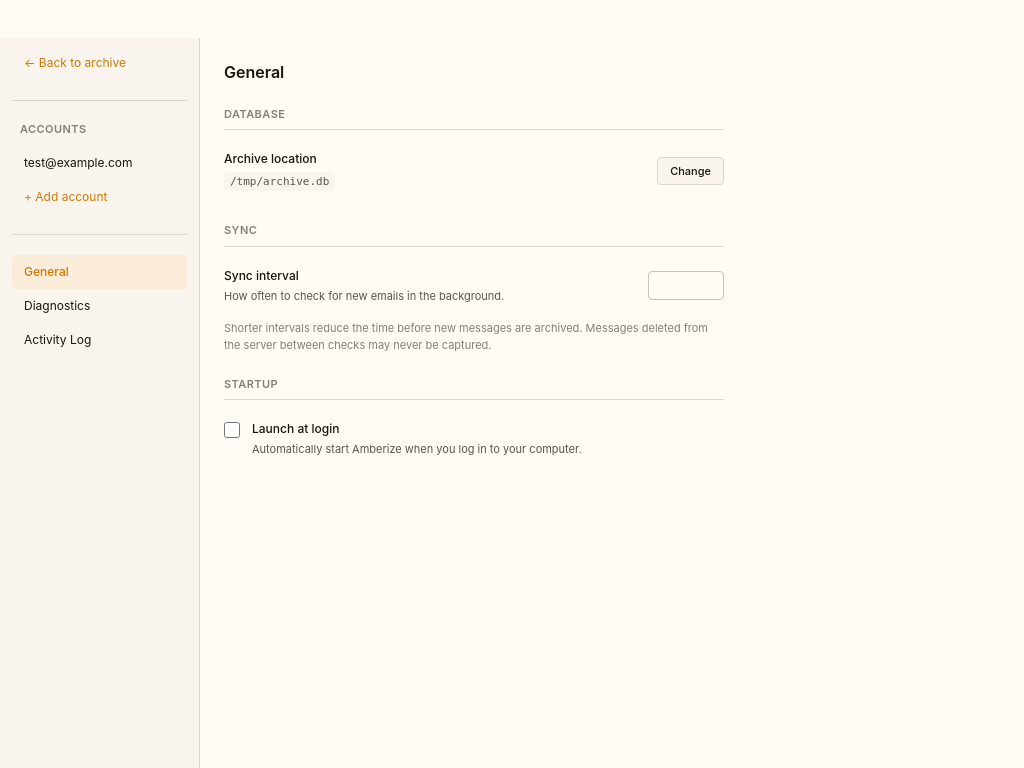
Scenario: archive reliability › Add account opens the form from General Settings
Check: the dropdown named "Background sync interval" is shown, box [648,271,724,300]
Click the button "+ Add account" at (100, 196), box [12,180,187,214]
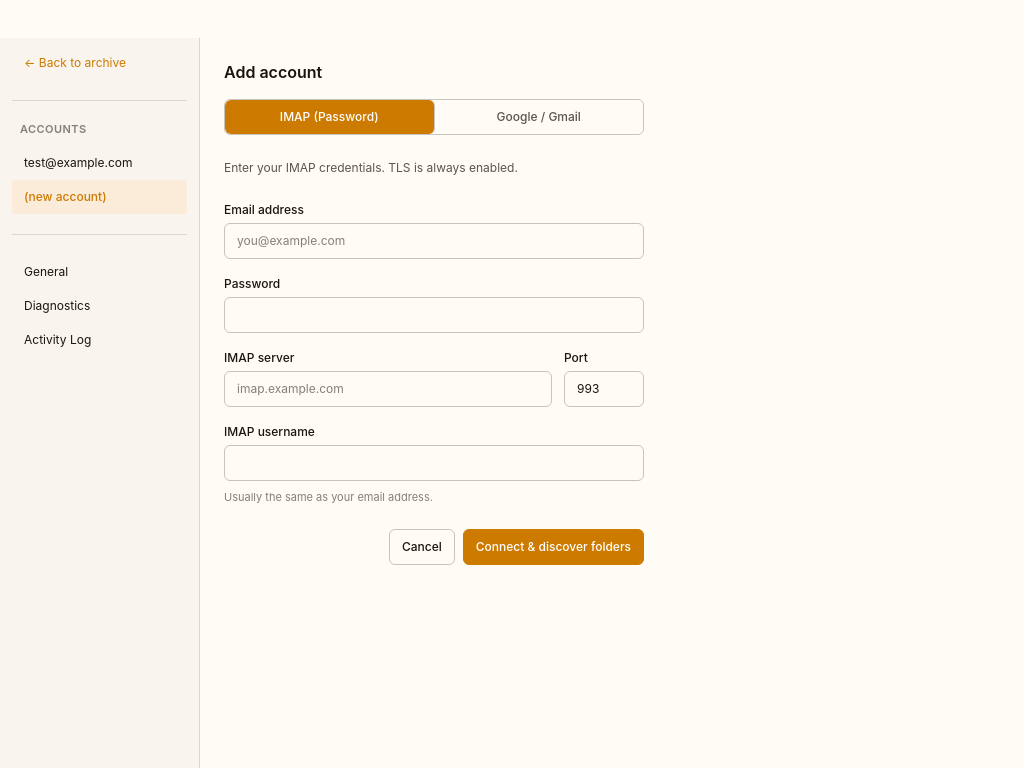
Check: the heading "Add account" is shown, box [224,62,322,82]
Check: the field labelled "Email address" is shown, box [224,223,644,259]
